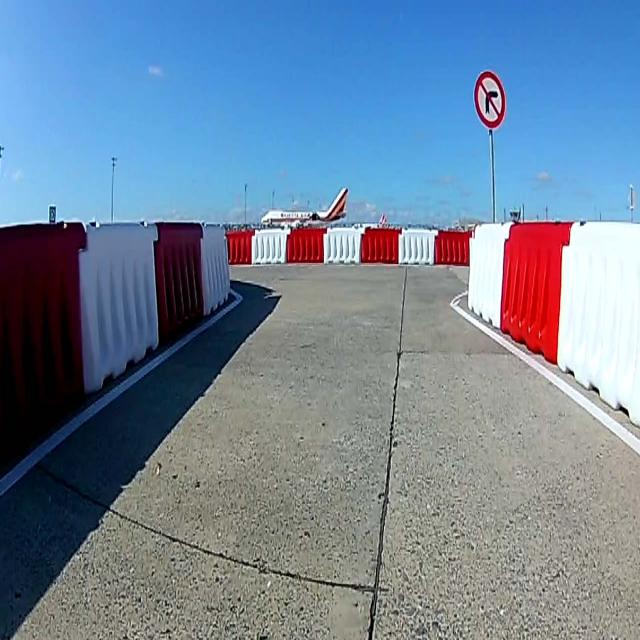sagadonulmez: (473, 71, 506, 129)
